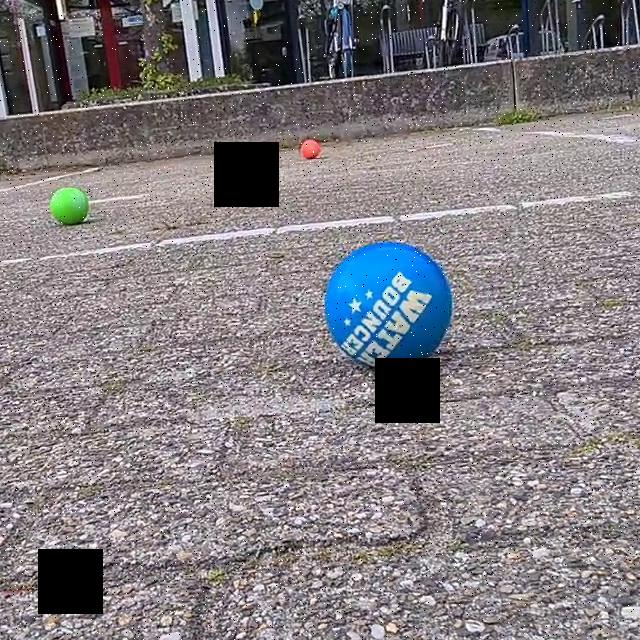ball: (49, 184, 90, 227), (299, 138, 323, 161)
